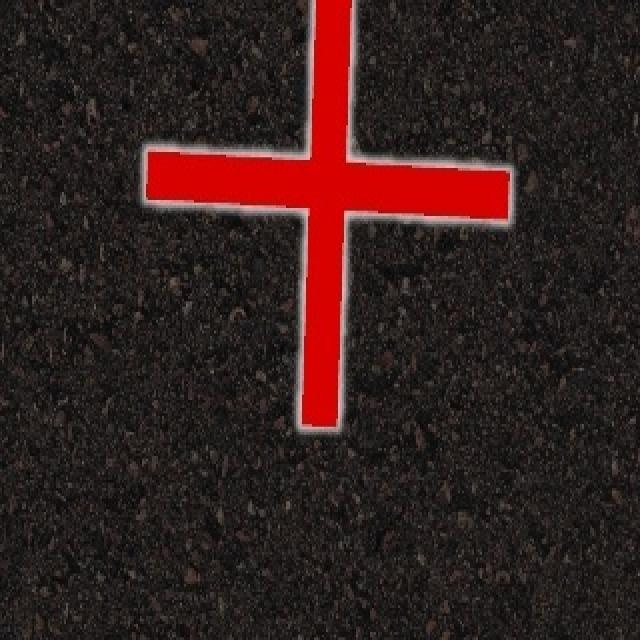x_marker: (145, 0, 509, 427)
